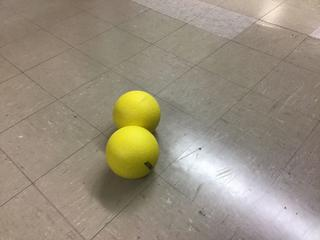power_cell: (101, 121, 163, 176), (105, 88, 163, 131)
